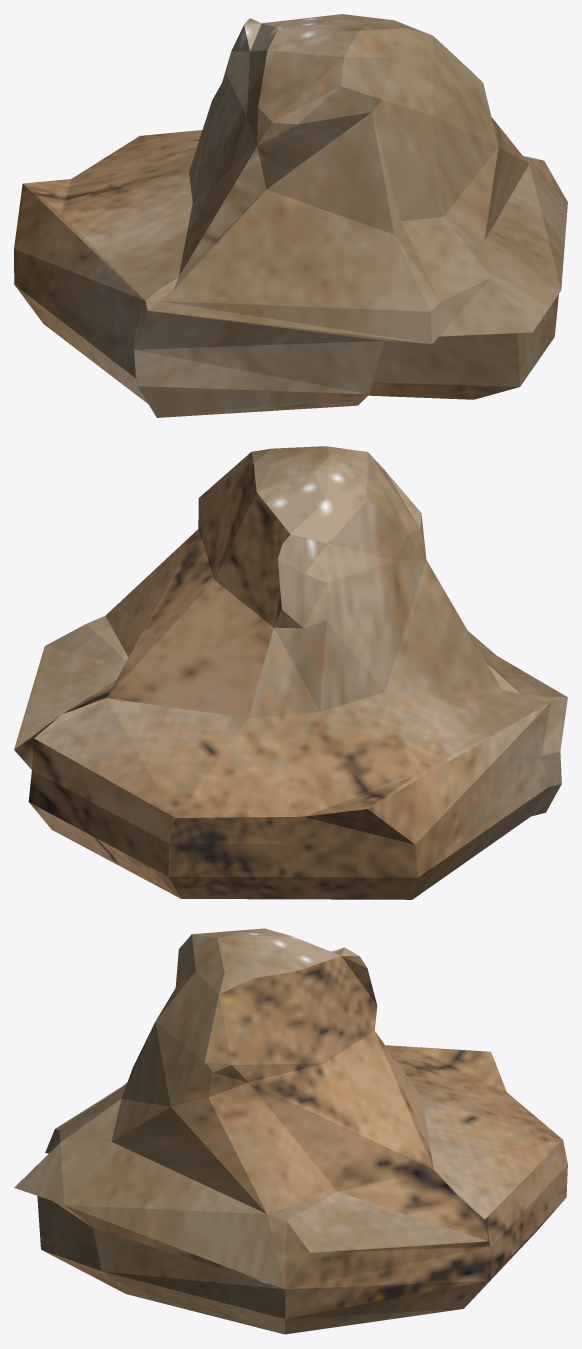
File: Stone_A_Standard.fbx
3 renders of one model, top to bottom at view 1: azimuth 30°, elevation 25°; view 2: azimuth 150°, elevation 25°; view 3: azimuth 270°, elevation 25°, orthographic. The views are drawn at different scales.
Visible parts, largest first — view 1: Stone_A_Standard; view 2: Stone_A_Standard; view 3: Stone_A_Standard.
Part boxes in pixels (x1=…): Stone_A_Standard: x1=14, y1=14, x2=567, y2=417; Stone_A_Standard: x1=14, y1=446, x2=567, y2=899; Stone_A_Standard: x1=14, y1=928, x2=567, y2=1334.
Bounding box in the file's own units: 6.07 × 3.99 × 6.58.
